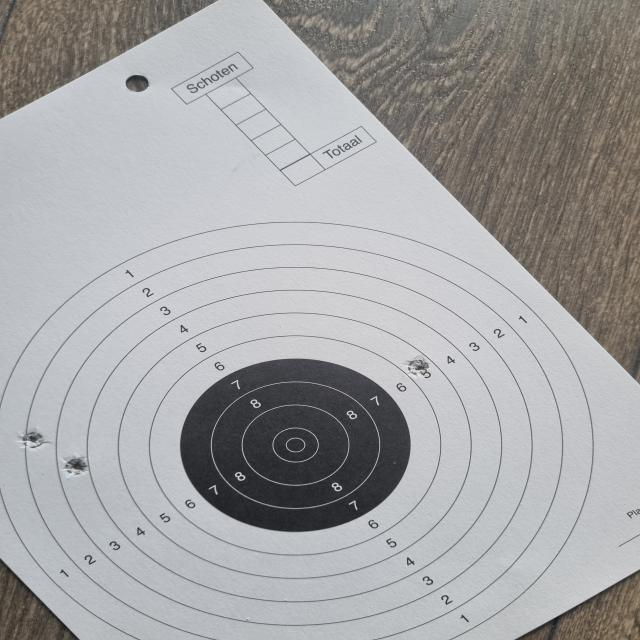3: (18, 431, 48, 448)
4: (61, 459, 89, 477)
6: (405, 360, 434, 378)
Black Contour: (182, 358, 410, 536)
Target: (0, 219, 595, 640)
